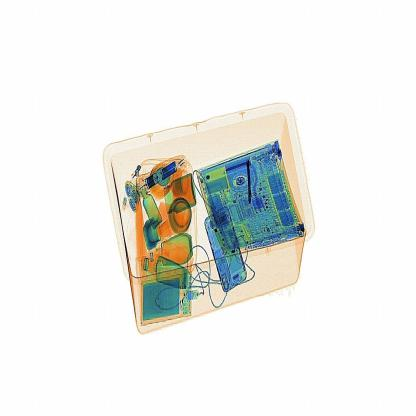knife: (241, 149, 263, 210)
